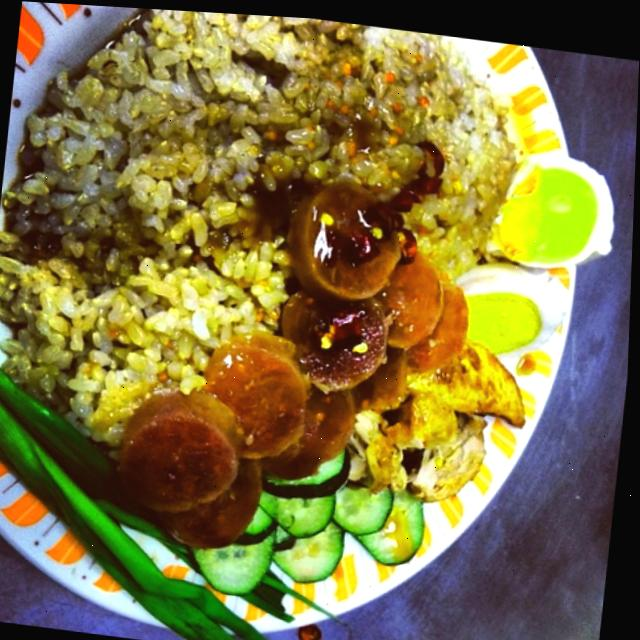猪肉菜式: (0, 8, 634, 640)
